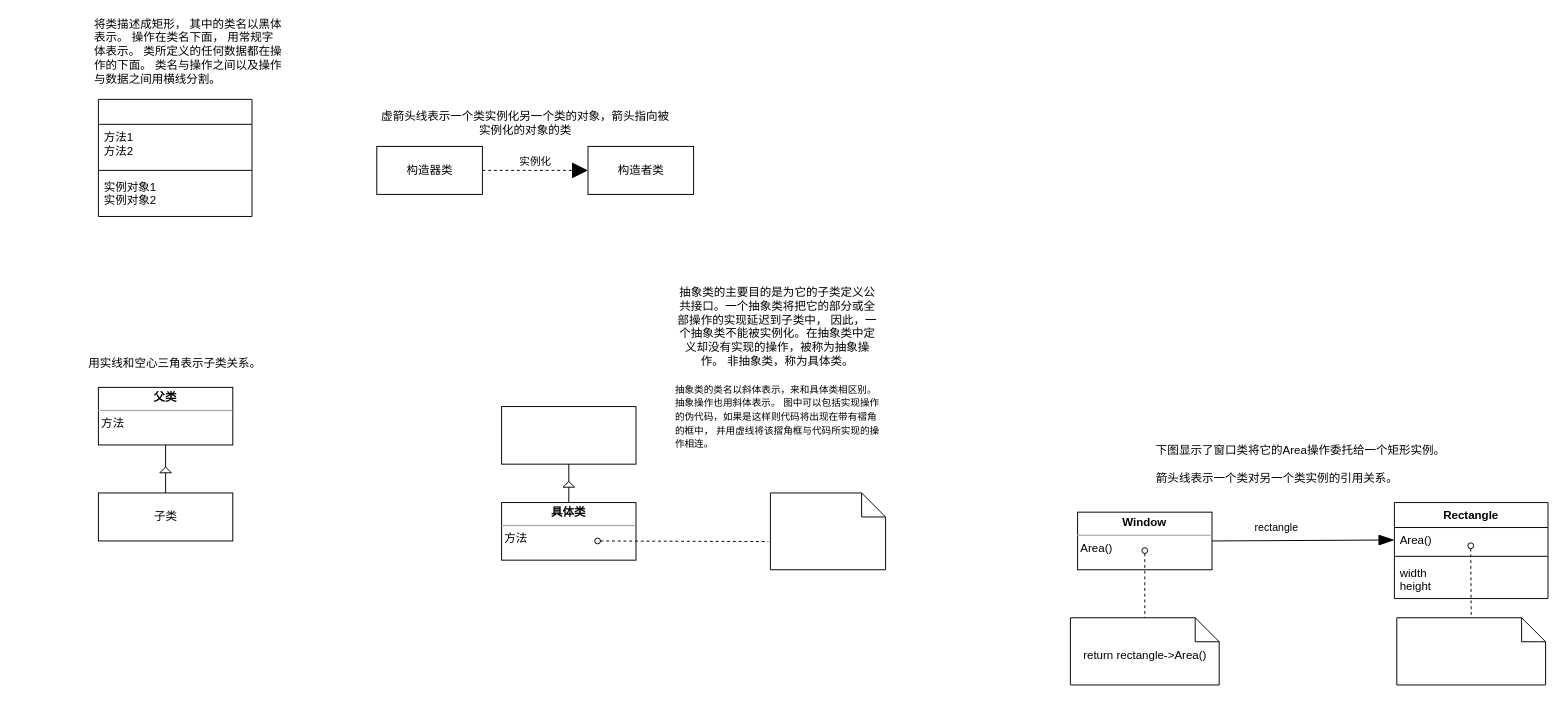
This 1565x702 diagram has some shape labels left out. The box of each missing label's shape, as (x1, y1, x2, y2) in pixels:
return width * height: (1396, 617, 1546, 685)
实现方法 伪代码: (769, 492, 886, 570)
抽象类 方法: (501, 406, 636, 464)
类名: (97, 98, 252, 216)
